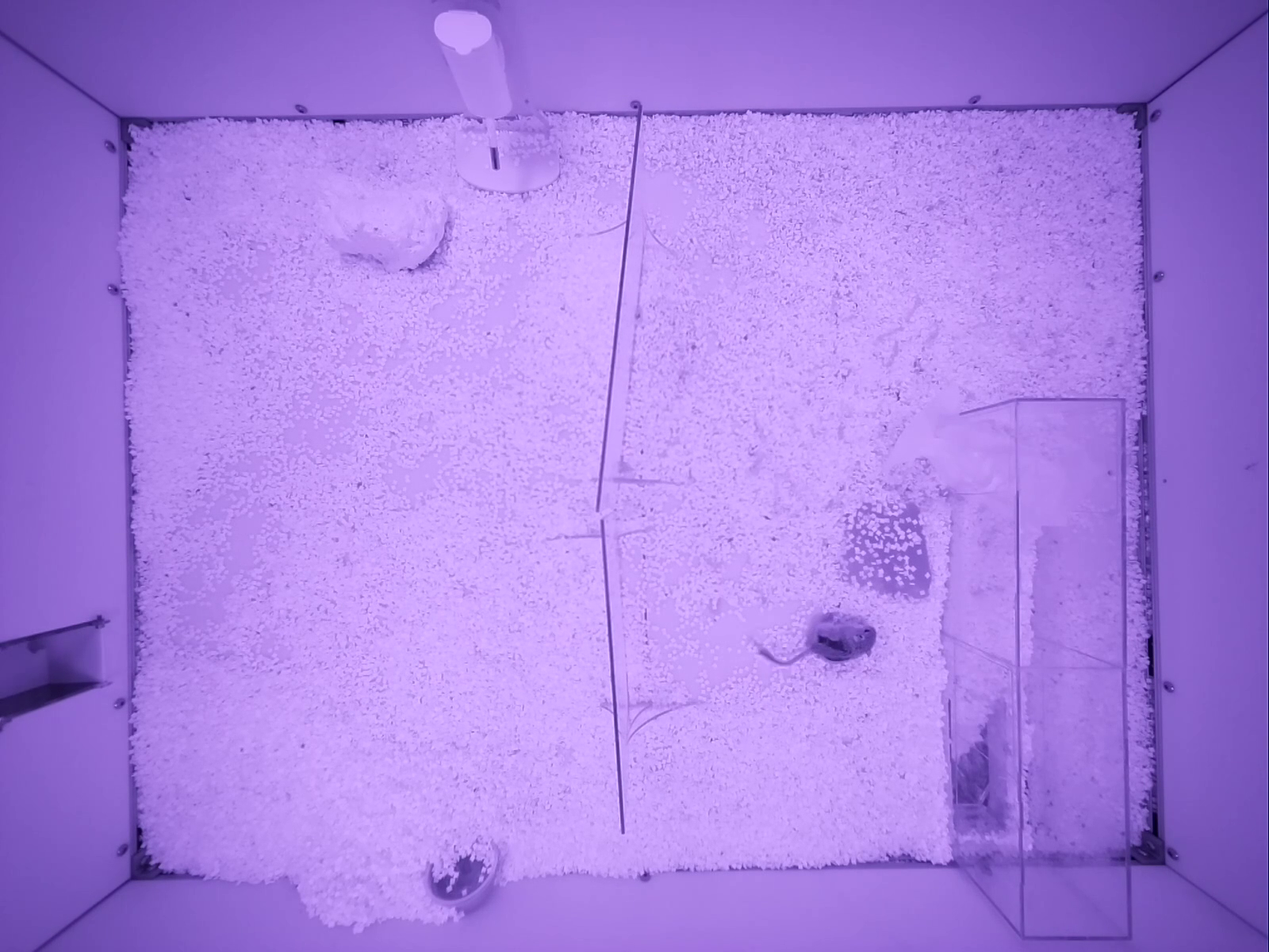adult_back: (761, 612, 875, 665)
